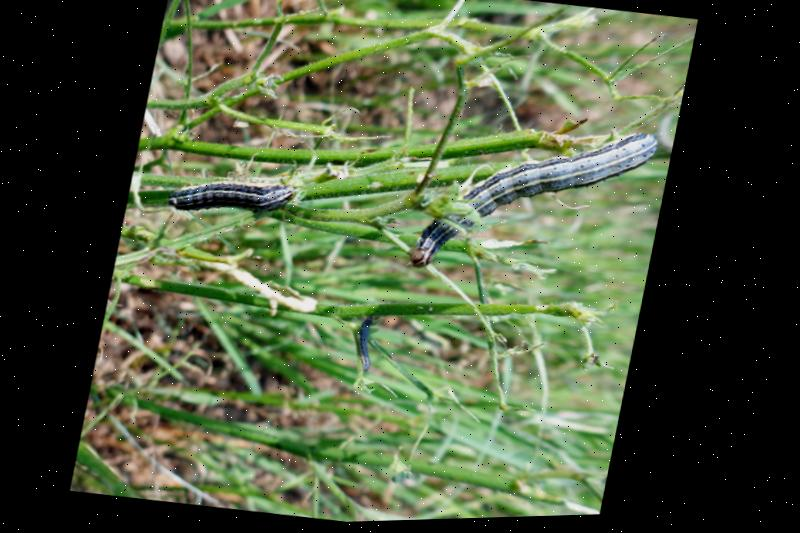fall-armyworm: (412, 136, 660, 271), (172, 181, 297, 213), (363, 319, 378, 374)
